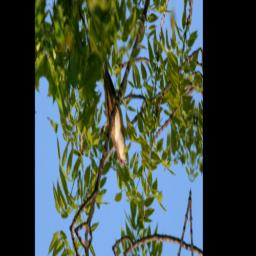Cuckoo: (95, 54, 135, 170)
